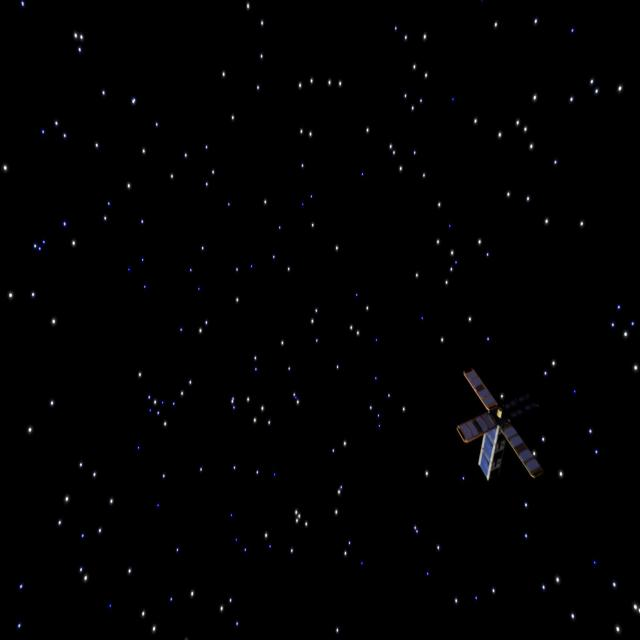medium_debris: (452, 359, 557, 494)
